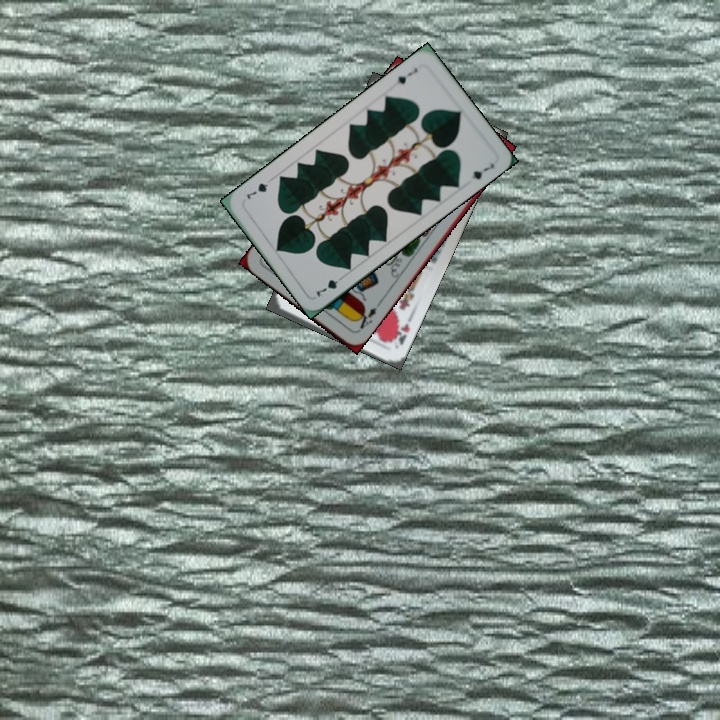EA: (351, 303, 380, 334)
G7: (312, 271, 347, 299), (389, 63, 420, 88)
HK: (387, 312, 413, 347)
